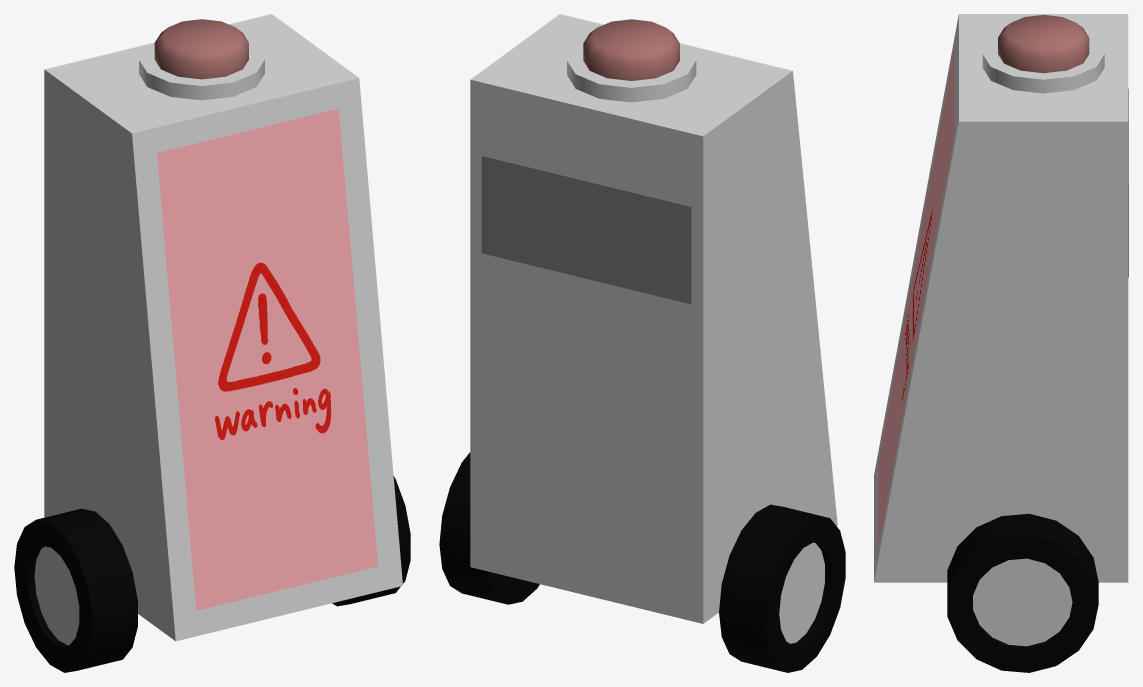
Rendered from SecBot04.fbx.
3 renders of one model, left to right at view 1: azimuth 30°, elevation 25°; view 2: azimuth 150°, elevation 25°; view 3: azimuth 270°, elevation 25°, orthographic. The views are drawn at different scales.
Visible parts, largest first — view 1: SecBot; view 2: SecBot; view 3: SecBot.
Part boxes in pixels (box(x1,y1,x2,y2)): SecBot: box(14, 14, 410, 672); SecBot: box(439, 14, 845, 672); SecBot: box(874, 14, 1128, 672).
Size of the model in its own units: 70 by 123 by 50.1.
